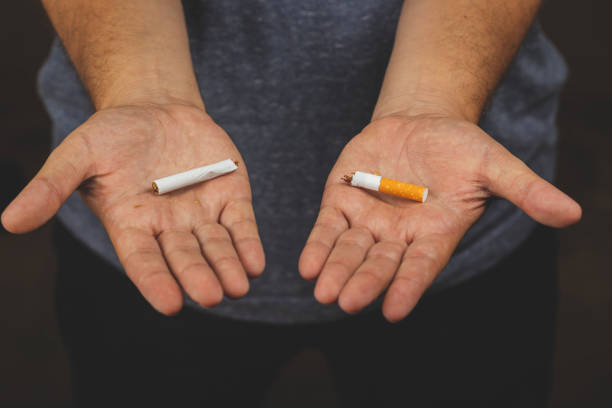cigarette: (150, 158, 241, 207), (339, 168, 430, 204)
